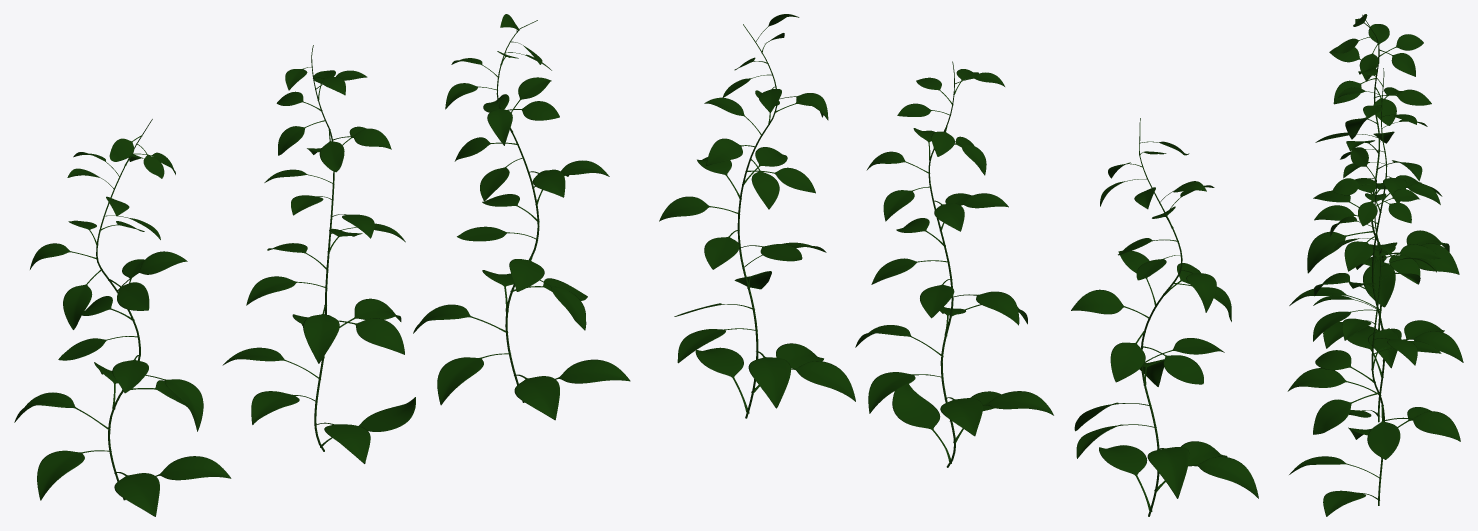
File: hangingPlants_edit_for_FBX.fbx
The picture shows the model from 3 angles, left to right: view 1: azimuth 30°, elevation 25°; view 2: azimuth 150°, elevation 25°; view 3: azimuth 270°, elevation 25°; orthographic projection. The views are drawn at different scales.
Visible parts, largest first — view 1: plants01, plants03, plants02; view 2: plants03, plants02, plants01; view 3: plants03, plants01, plants02.
Boxes of the visible parts, bbox=[...] form: plants01: bbox=[14, 119, 231, 516]; plants03: bbox=[413, 14, 630, 420]; plants02: bbox=[222, 45, 415, 463]; plants03: bbox=[659, 14, 855, 418]; plants02: bbox=[855, 61, 1053, 467]; plants01: bbox=[1071, 118, 1258, 516]; plants03: bbox=[1289, 147, 1460, 516]; plants01: bbox=[1289, 14, 1459, 348]; plants02: bbox=[1287, 68, 1463, 422].
Bounding box in the file's own units: 28680 × 19476 × 8857.
